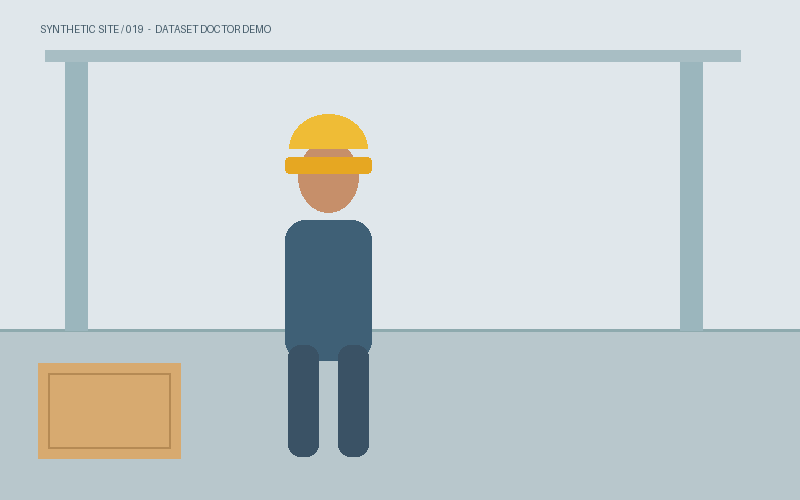Safety-Helmet: (285, 127, 371, 173)
